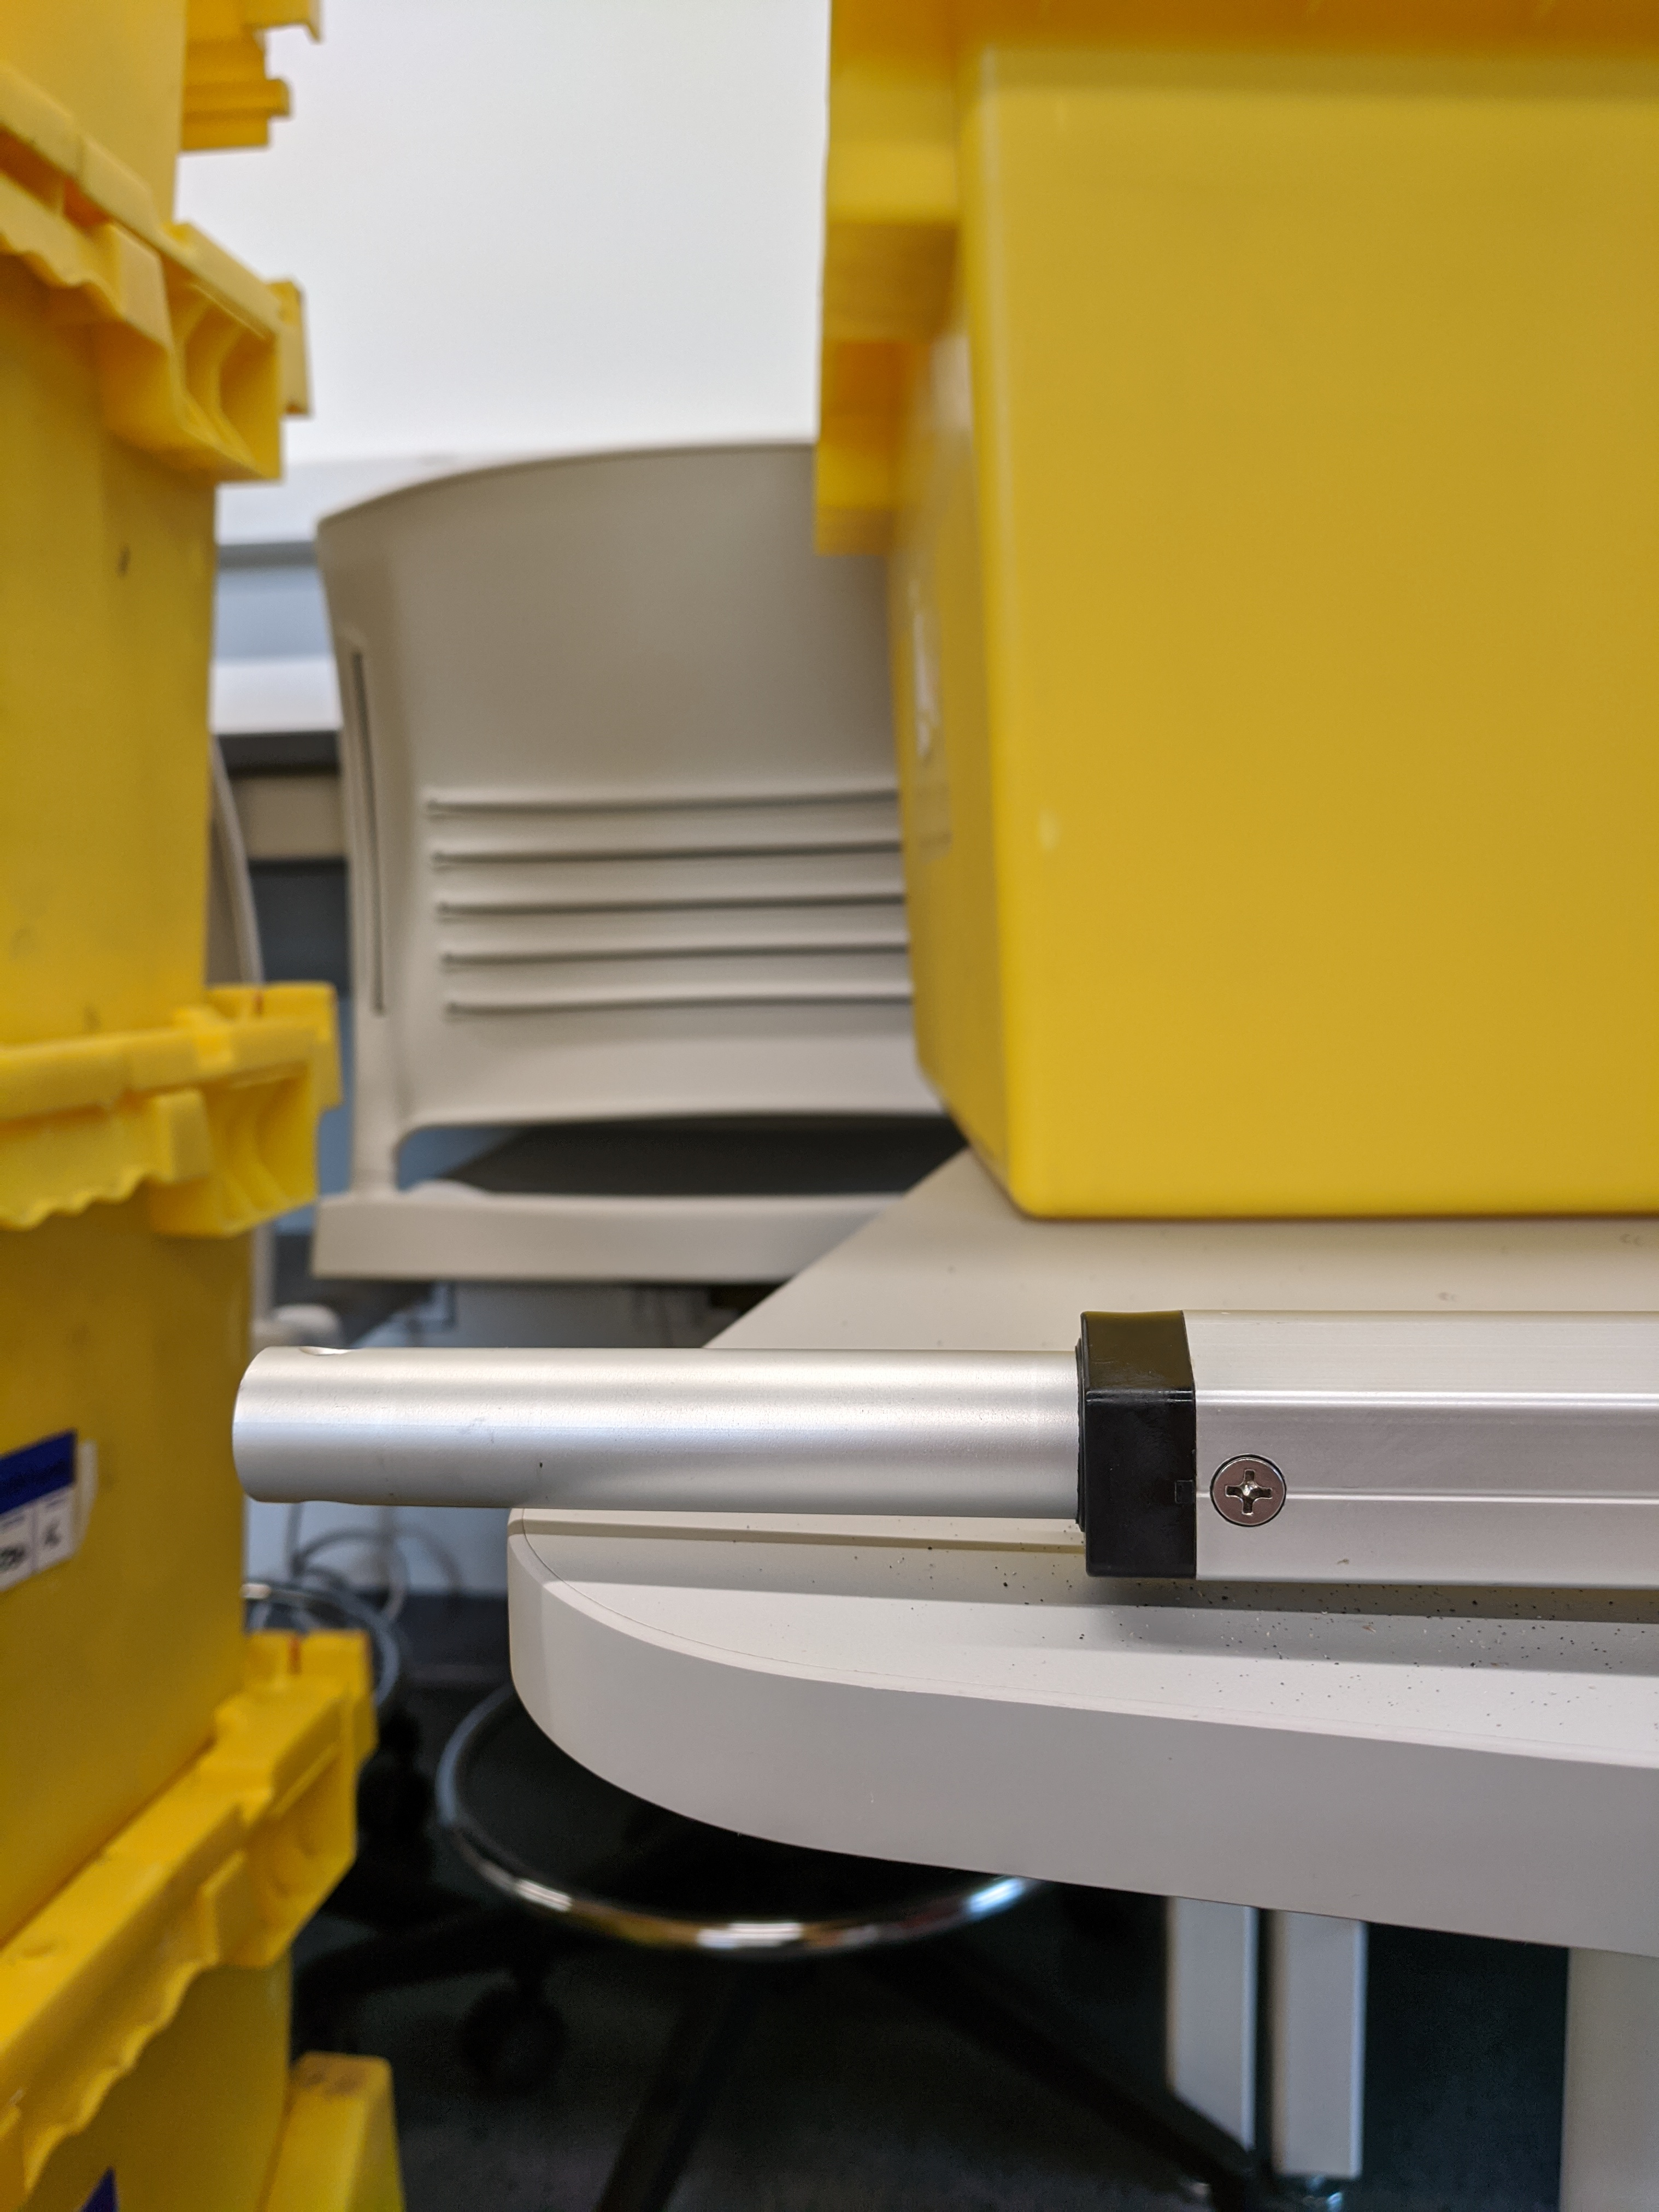cross_recessed_screw: (1201, 1437, 1291, 1524)
